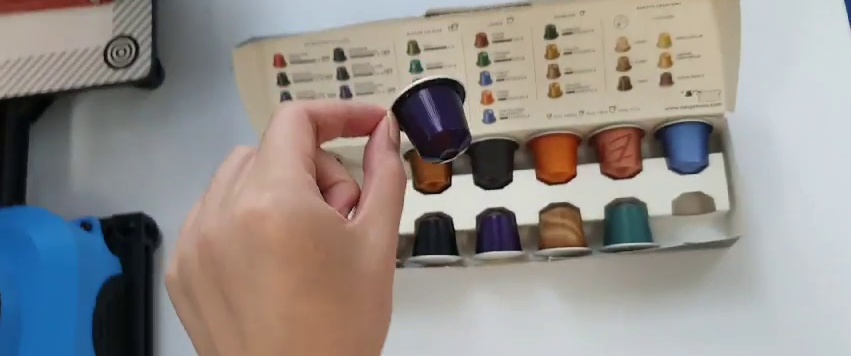capsule_2: (386, 75, 473, 166)
